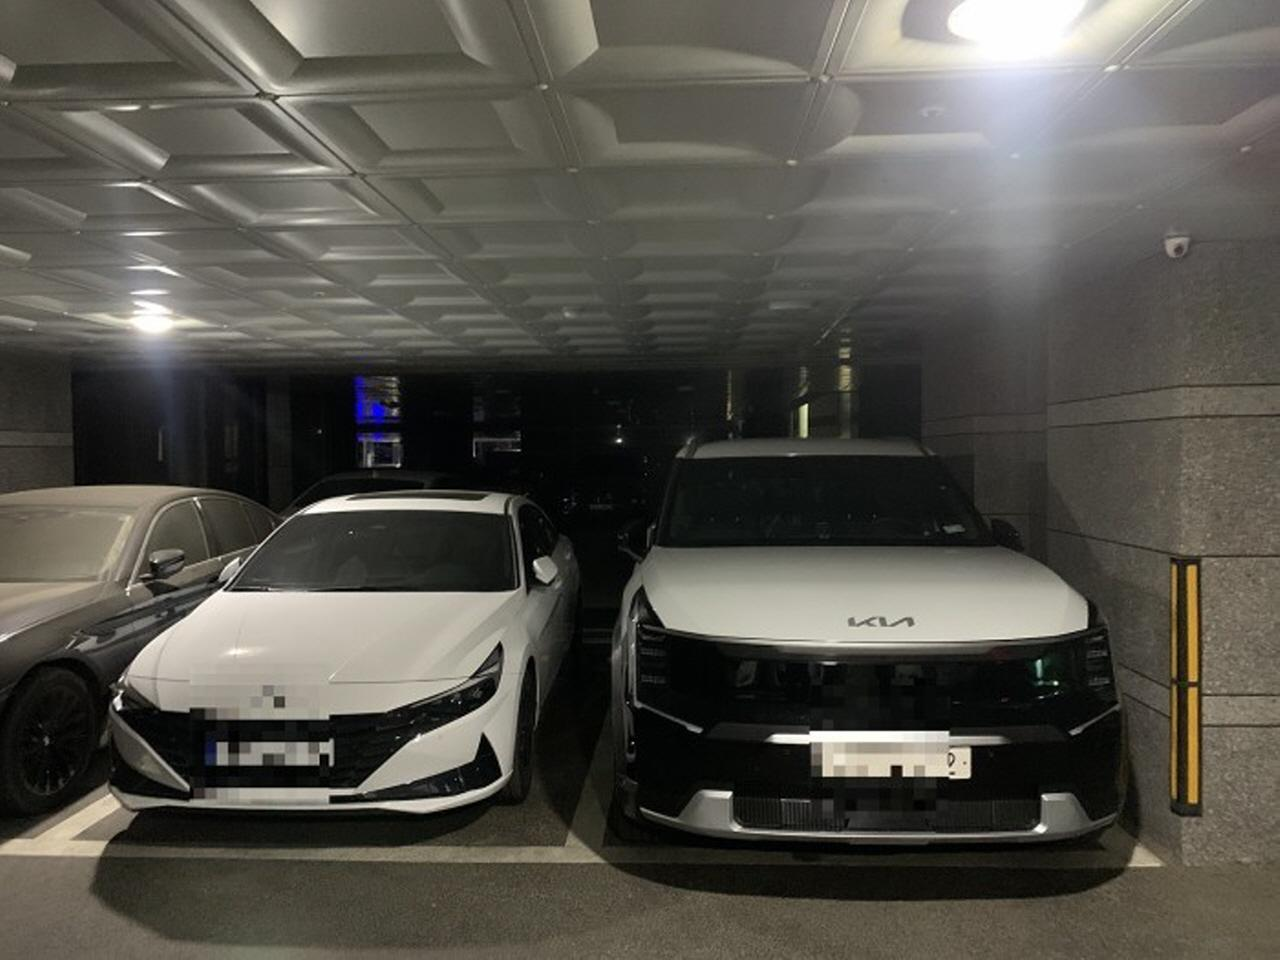occupied: (580, 437, 1161, 881), (71, 469, 590, 853), (0, 474, 230, 844)
